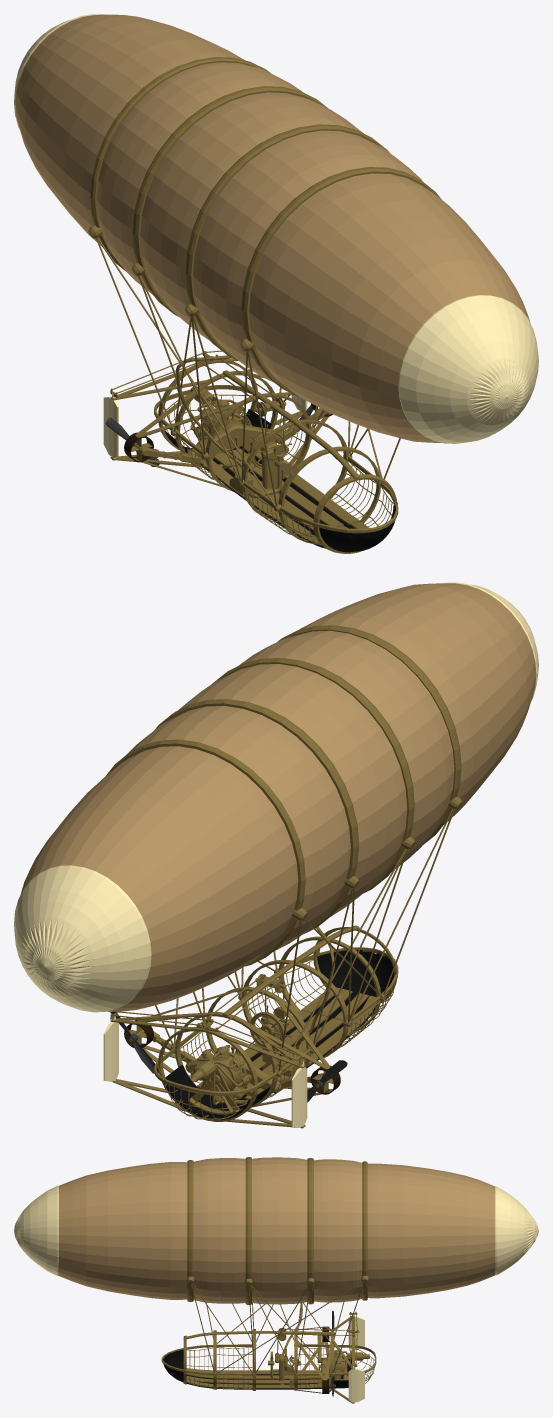
The picture shows the model from 3 angles, top to bottom: view 1: azimuth 30°, elevation 25°; view 2: azimuth 150°, elevation 25°; view 3: azimuth 270°, elevation 25°; orthographic projection. The views are drawn at different scales.
Visible parts, largest first — view 1: RokuLaye34, RokuLaye35, RokuLaye36, RokuLayer1, RokuLaye39, RokuLayer3, RokuLayer2, RokuLayer0, RokuLayer5, RokuLaye18, RokuLaye31, RokuLaye11 (+3 smaller); view 2: RokuLaye34, RokuLaye35, RokuLaye36, RokuLayer1, RokuLayer0, RokuLaye39, RokuLayer3, RokuLayer2, RokuLaye31, RokuLayer5, RokuLaye33, RokuLaye18 (+3 smaller); view 3: RokuLaye34, RokuLaye35, RokuLaye36, RokuLayer3, RokuLaye39, RokuLayer2, RokuLayer0, RokuLayer1, RokuLaye18, RokuLaye30, RokuLayer5, RokuLaye20 (+3 smaller).
Boxes of the visible parts, bbox=[...] form: RokuLaye34: bbox=[15, 14, 530, 442]; RokuLaye35: bbox=[14, 14, 538, 443]; RokuLaye36: bbox=[90, 57, 441, 396]; RokuLayer1: bbox=[158, 359, 397, 553]; RokuLaye39: bbox=[96, 237, 400, 506]; RokuLayer3: bbox=[200, 448, 369, 543]; RokuLayer2: bbox=[154, 370, 398, 533]; RokuLayer0: bbox=[165, 409, 395, 552]; RokuLayer5: bbox=[133, 373, 330, 487]; RokuLaye18: bbox=[179, 415, 392, 544]; RokuLaye31: bbox=[110, 358, 302, 467]; RokuLaye11: bbox=[186, 423, 279, 459]; RokuLaye34: bbox=[20, 583, 536, 1011]; RokuLaye35: bbox=[14, 582, 538, 1012]; RokuLaye36: bbox=[106, 625, 461, 966]; RokuLayer1: bbox=[158, 927, 397, 1121]; RokuLayer0: bbox=[164, 950, 394, 1119]; RokuLaye39: bbox=[155, 809, 454, 1071]; RokuLayer3: bbox=[197, 987, 376, 1099]; RokuLayer2: bbox=[154, 925, 398, 1095]; RokuLaye31: bbox=[110, 1012, 305, 1128]; RokuLayer5: bbox=[133, 989, 331, 1107]; RokuLaye33: bbox=[112, 976, 303, 1061]; RokuLaye18: bbox=[180, 962, 394, 1097]; RokuLaye34: bbox=[58, 1157, 495, 1304]; RokuLaye35: bbox=[14, 1185, 538, 1275]; RokuLaye36: bbox=[187, 1157, 367, 1304]; RokuLayer3: bbox=[186, 1368, 330, 1388]; RokuLaye39: bbox=[191, 1281, 364, 1373]; RokuLayer2: bbox=[161, 1330, 376, 1375]; RokuLayer0: bbox=[163, 1349, 351, 1389]; RokuLayer1: bbox=[183, 1329, 355, 1390]; RokuLaye18: bbox=[189, 1348, 327, 1388]; RokuLaye30: bbox=[348, 1366, 364, 1403]; RokuLayer5: bbox=[297, 1327, 333, 1393]; RokuLaye20: bbox=[186, 1354, 374, 1388].
Size of the model in its own units: 9.12 by 14.18 by 30.15.
